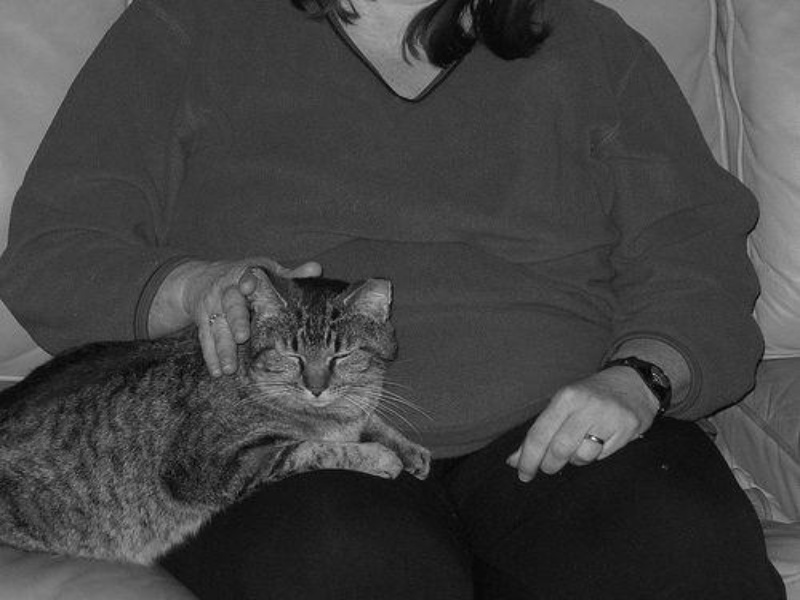hands: (507, 359, 652, 487), (178, 251, 323, 379)
